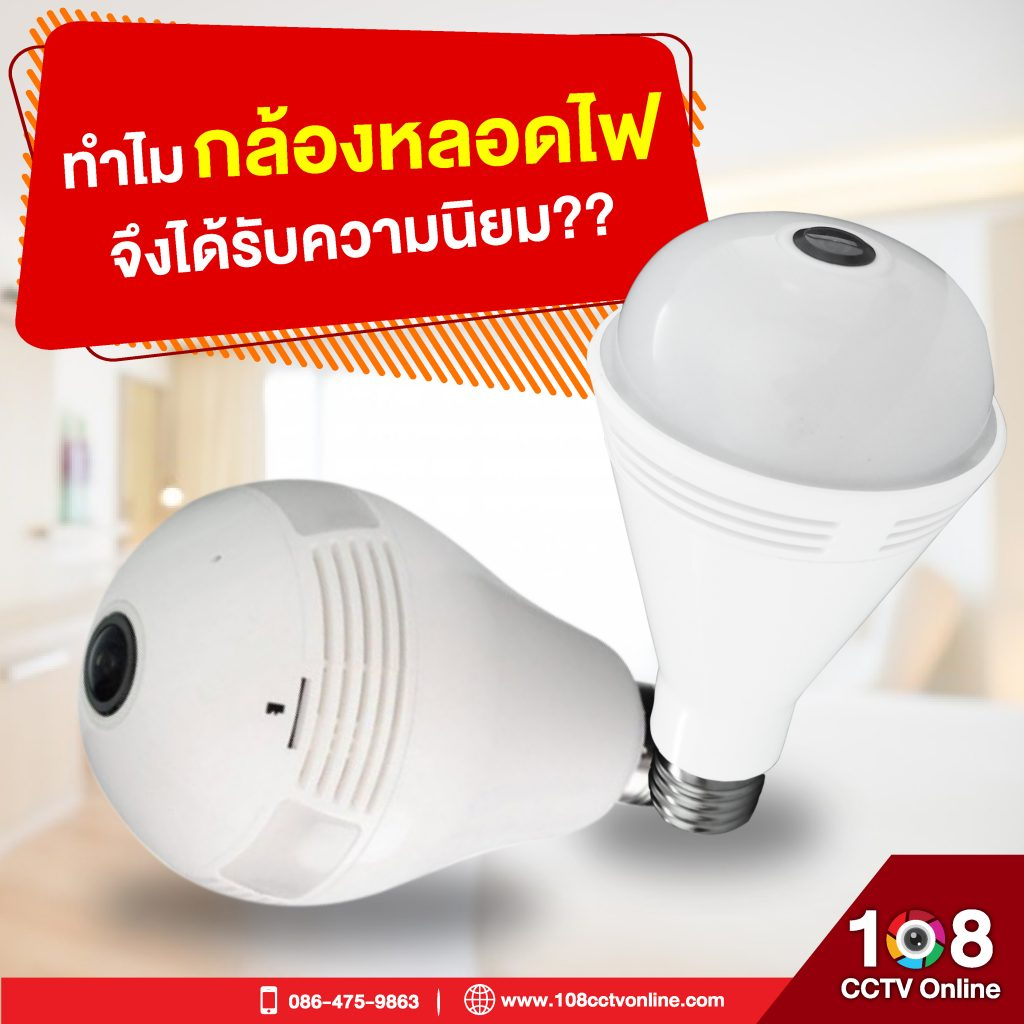Light_bulb: (588, 205, 1018, 872), (57, 478, 667, 911)
